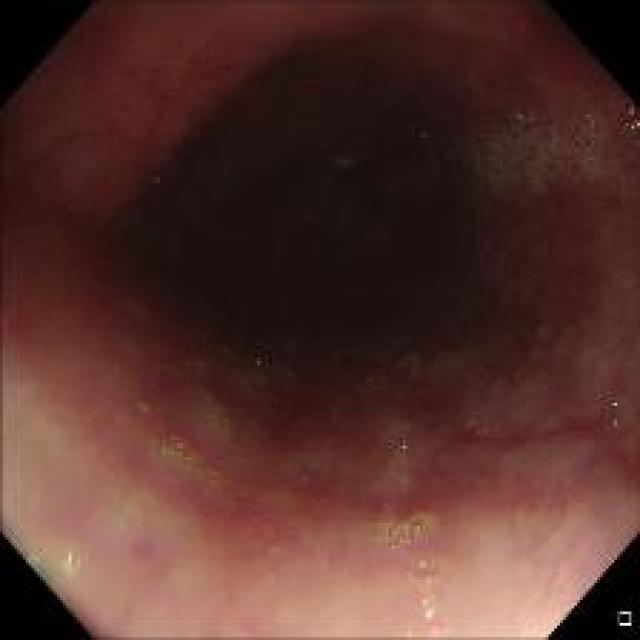bubbles: (462, 95, 635, 206), (378, 504, 430, 551), (198, 385, 234, 435), (574, 335, 611, 372), (406, 549, 440, 576), (356, 369, 384, 395), (201, 464, 226, 490), (610, 268, 634, 289)
color misalignment: (26, 548, 64, 594), (412, 599, 451, 635), (152, 438, 195, 469), (51, 549, 86, 578), (621, 105, 638, 141), (132, 399, 158, 420), (395, 431, 411, 458)
contrast: (1, 2, 638, 429)
